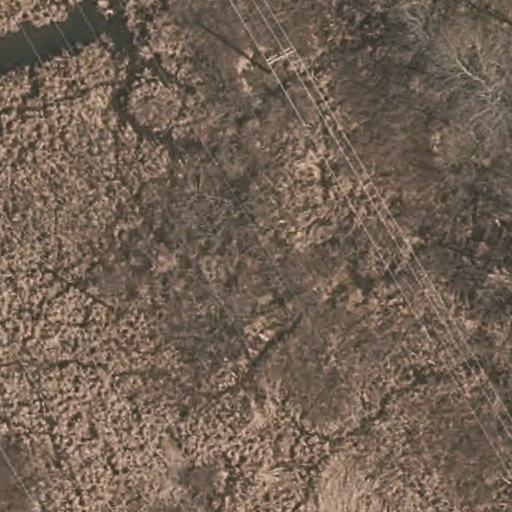DT: (259, 40, 301, 82)
